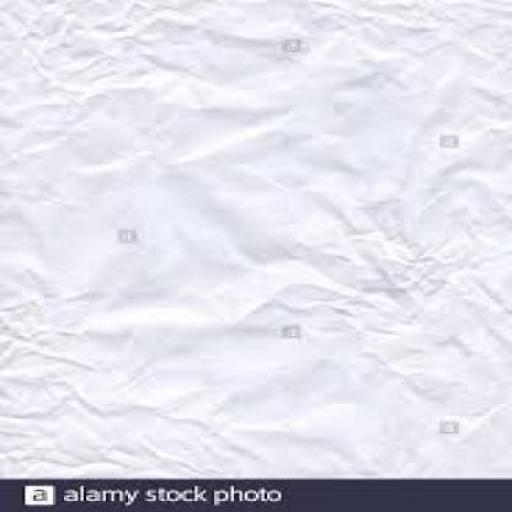paper: (0, 0, 510, 479)
